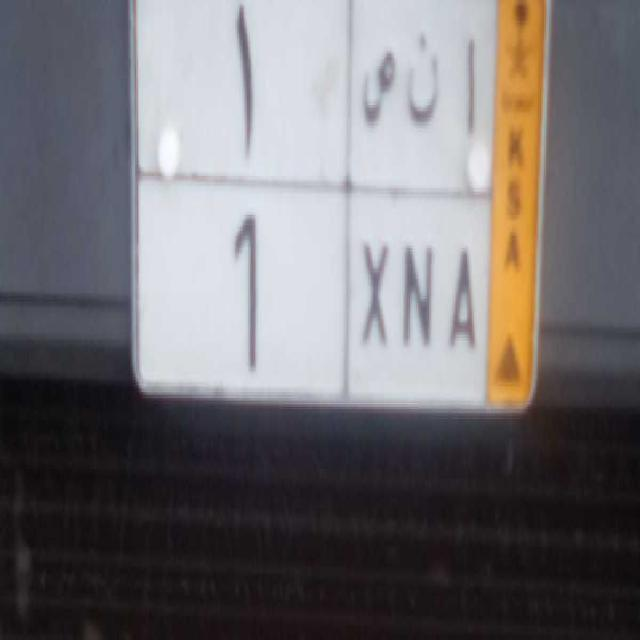license_plate: (139, 173, 489, 419)
